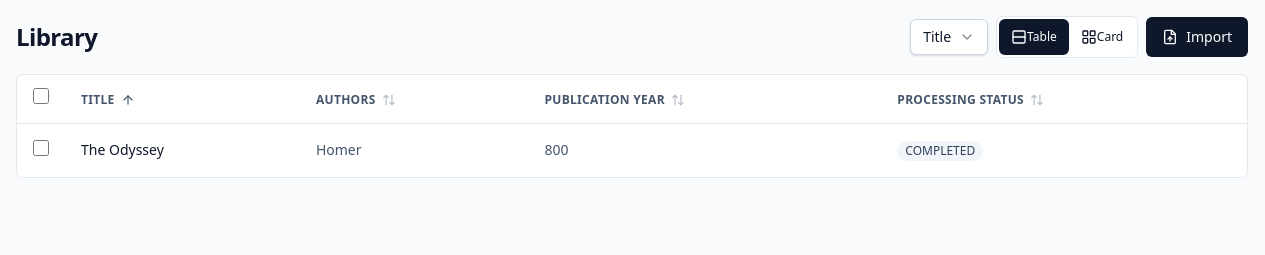
Test case: library route › toggles a single row selection
This screenshot has width=1265, height=255.
Step 1. Click the checkbox with test id "row-select" → (41, 148), box [33,140,49,156]
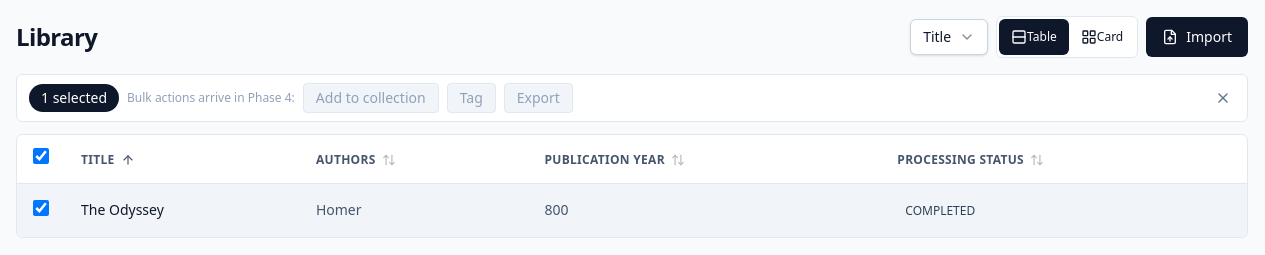
Check: the element with test id "selection-toolbar" is shown, box [16,74,1248,122]
Check: the text with test id "selection-count" reads "1 selected", box [29,84,119,112]
